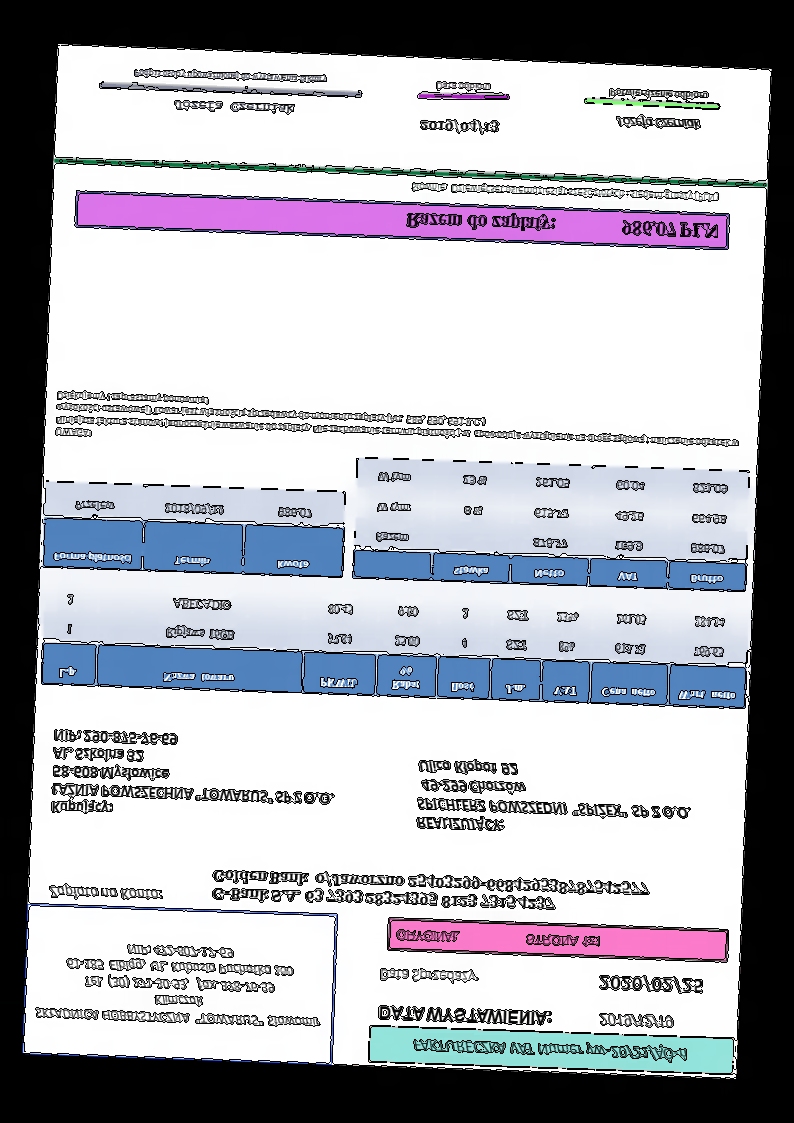Table: (40, 578, 749, 712), (352, 455, 752, 593), (41, 478, 345, 579)
TextBox: (53, 387, 743, 464), (49, 727, 338, 827), (30, 937, 327, 1033), (209, 863, 652, 920), (414, 755, 695, 842), (403, 208, 720, 244), (408, 1033, 692, 1068), (409, 178, 723, 207), (393, 926, 606, 953), (375, 1002, 555, 1030), (131, 66, 329, 88), (596, 972, 706, 999), (378, 964, 481, 989), (47, 884, 163, 906), (171, 98, 296, 117), (595, 1009, 678, 1034), (416, 114, 500, 138), (612, 113, 703, 135), (607, 85, 712, 104), (432, 80, 493, 95)
